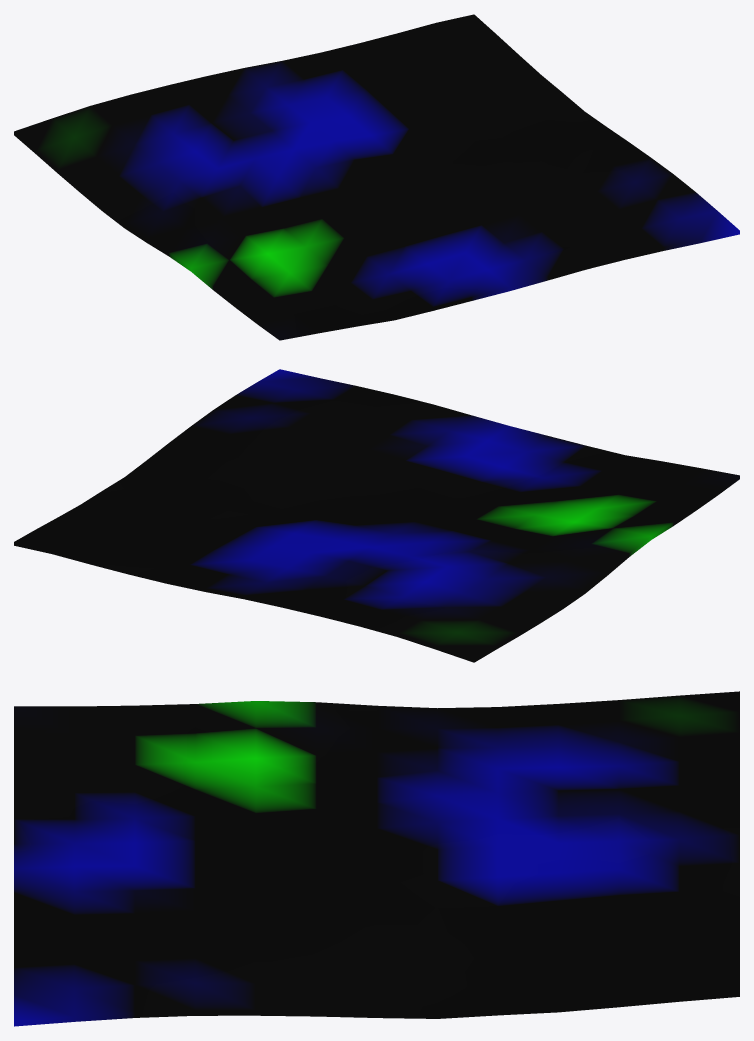
Rendered from coast_6_3.glb.
The picture shows the model from 3 angles, top to bottom: view 1: azimuth 30°, elevation 25°; view 2: azimuth 150°, elevation 25°; view 3: azimuth 270°, elevation 25°; orthographic projection. The views are drawn at different scales.
Parts seen in each view (by area): view 1: terrain; view 2: terrain; view 3: terrain.
Boxes of the visible parts, x1,y1,x2,y2 form: terrain: (14,14,739,340); terrain: (14,369,739,662); terrain: (14,691,739,1026).
Bounding box in the file's own units: 192 × 12.37 × 192.
